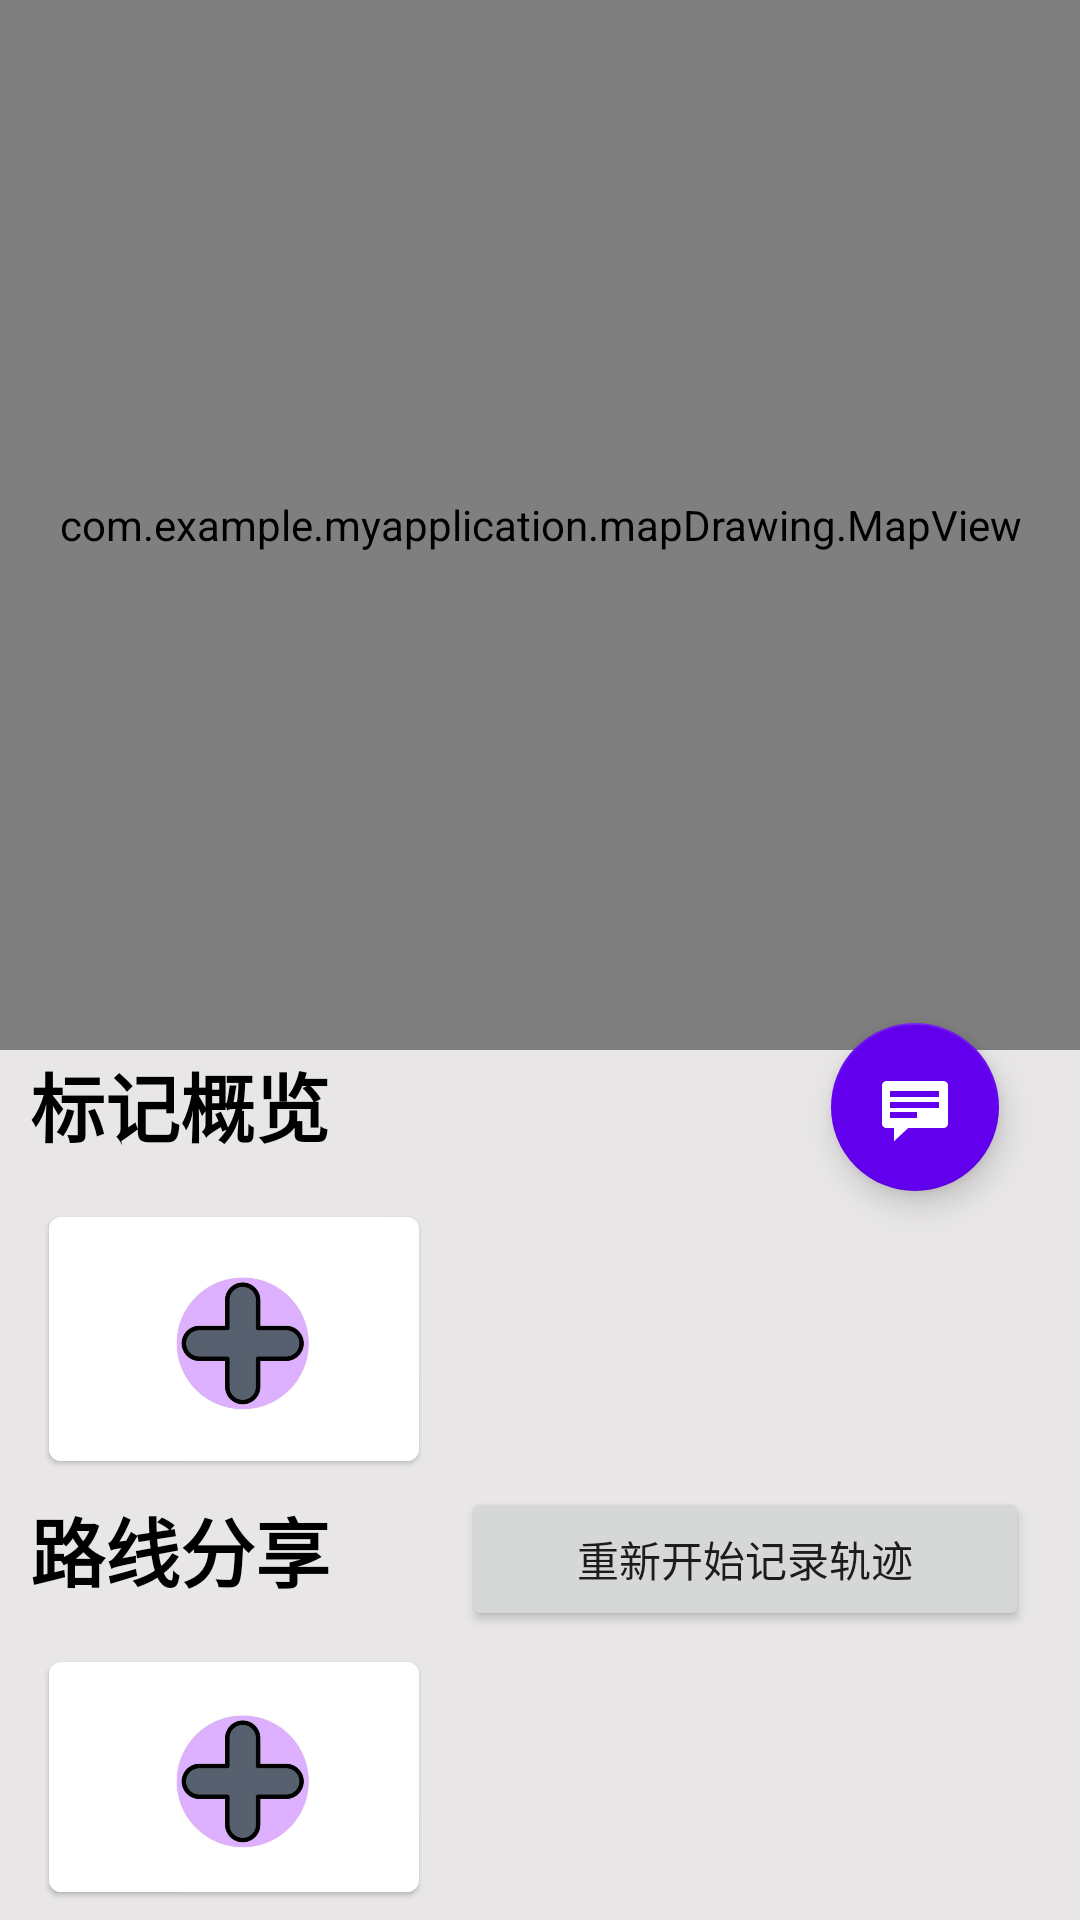

Where to tap for icons on this 1080*1920 app screen, as [x,y]:
chat: [915,1107]
